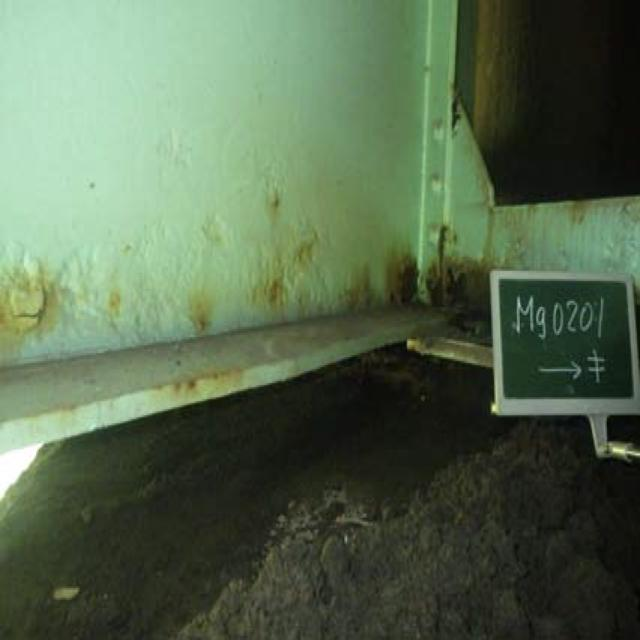corrosion: (363, 226, 486, 360)
